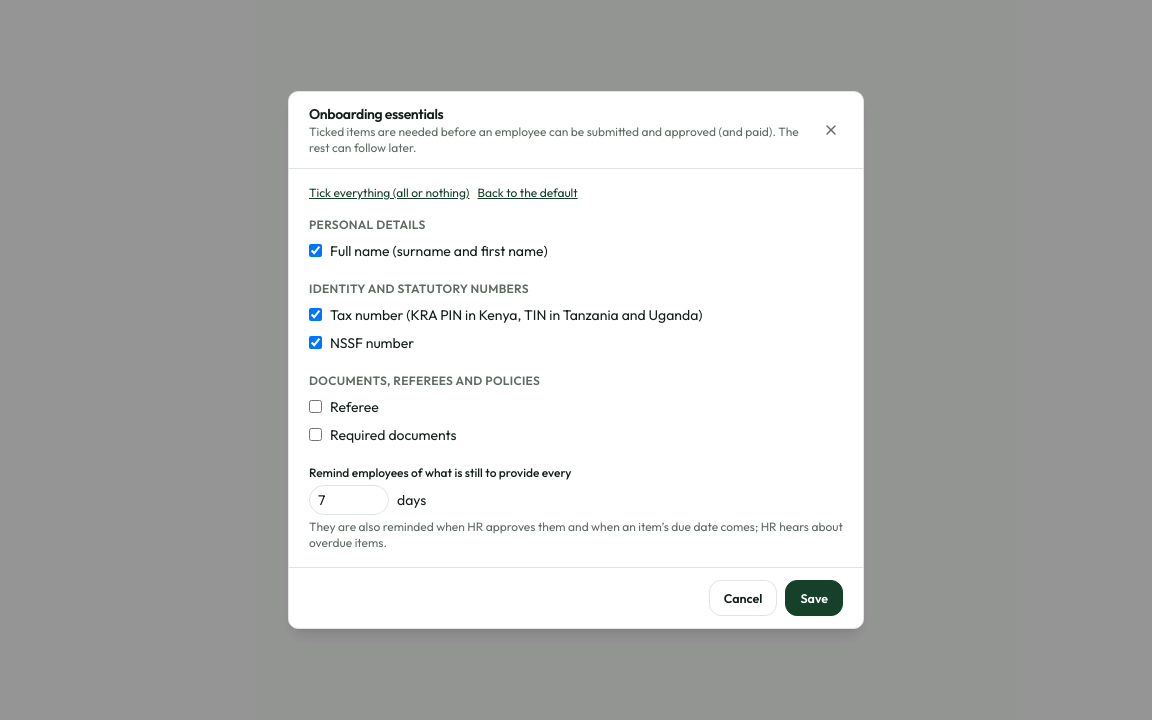
Test: OnboardingEssentialsModal › saves the reminder interval, within 1 to 90 days
Later steps or results of the test are not shown.
Replace the text in the number field named "Reminder interval in days" with "0": (349, 500) [309,485,389,515]
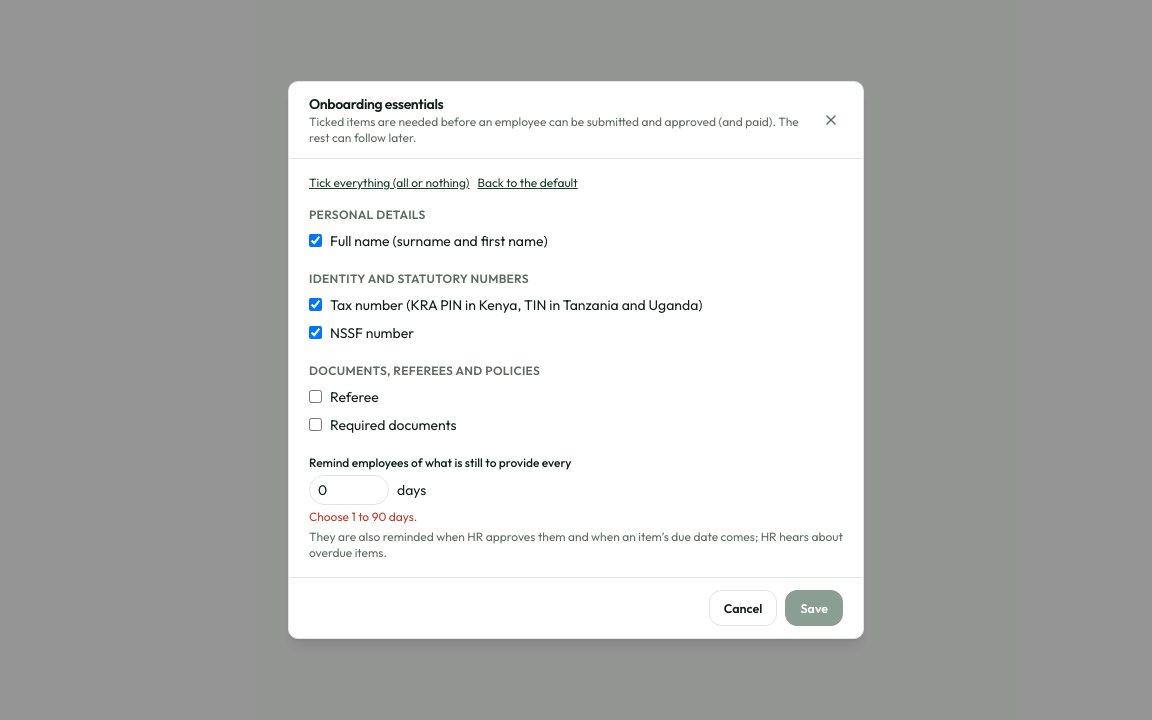
Expected: the text "Choose 1 to 90 days." is shown, [309,509,417,524]
Expected: the button "Save" is disabled, [786,590,843,626]
